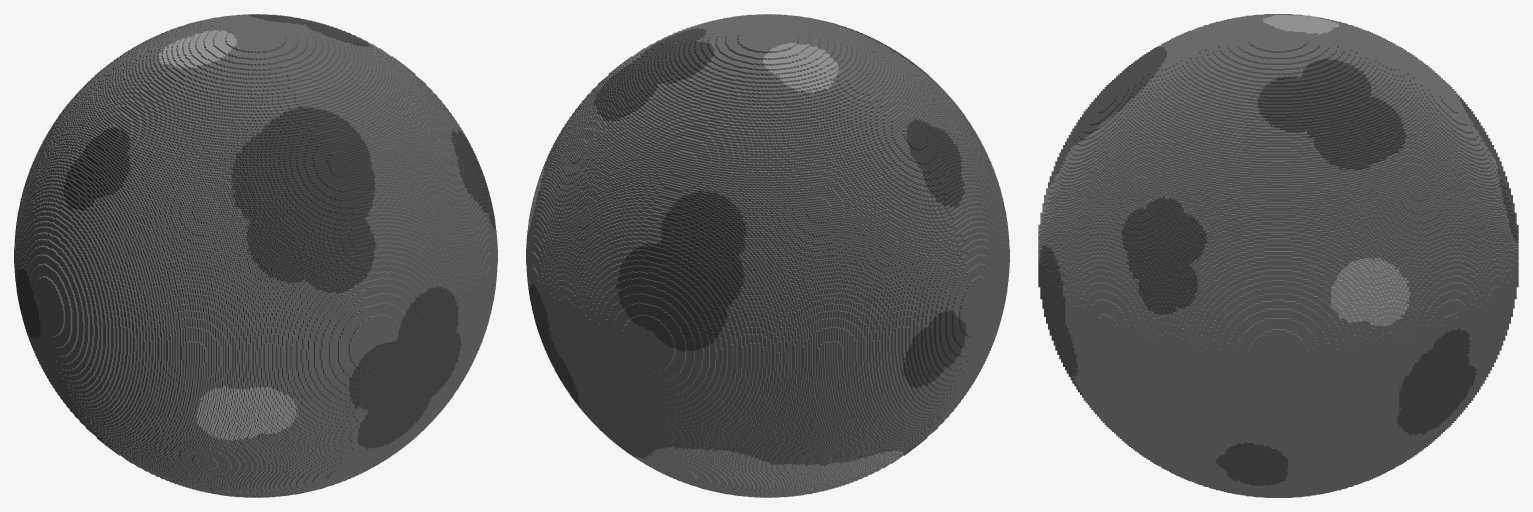
The model's file is Moon.obj.
The picture shows the model from 3 angles, left to right: view 1: azimuth 30°, elevation 25°; view 2: azimuth 150°, elevation 25°; view 3: azimuth 270°, elevation 25°; orthographic projection.
Size of the model in its own units: 25.4 by 25.4 by 25.4.
1 material, 1 textured.
